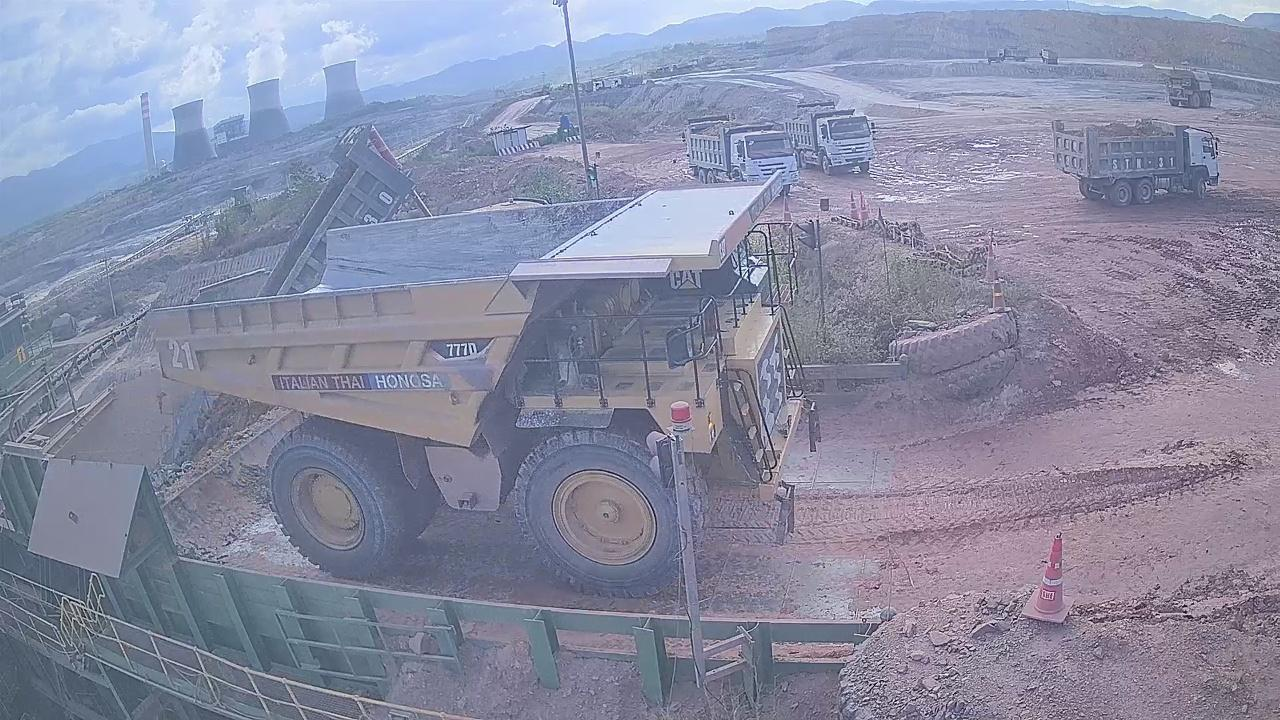empty_load: (262, 176, 651, 287)
front_number: (751, 317, 794, 443)
mining_truck: (150, 170, 840, 596)
tail_number: (164, 337, 203, 373)
truck_size: (423, 334, 493, 361)
